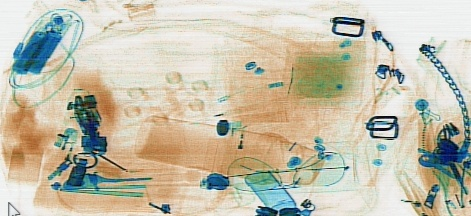lighter: (43, 125, 76, 189), (222, 117, 245, 172)
powerbank: (9, 8, 75, 74)
